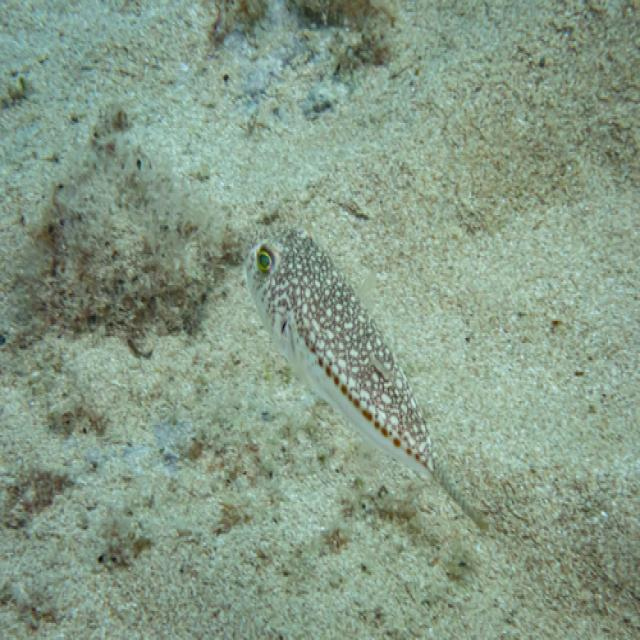Balik: (246, 229, 487, 530)
